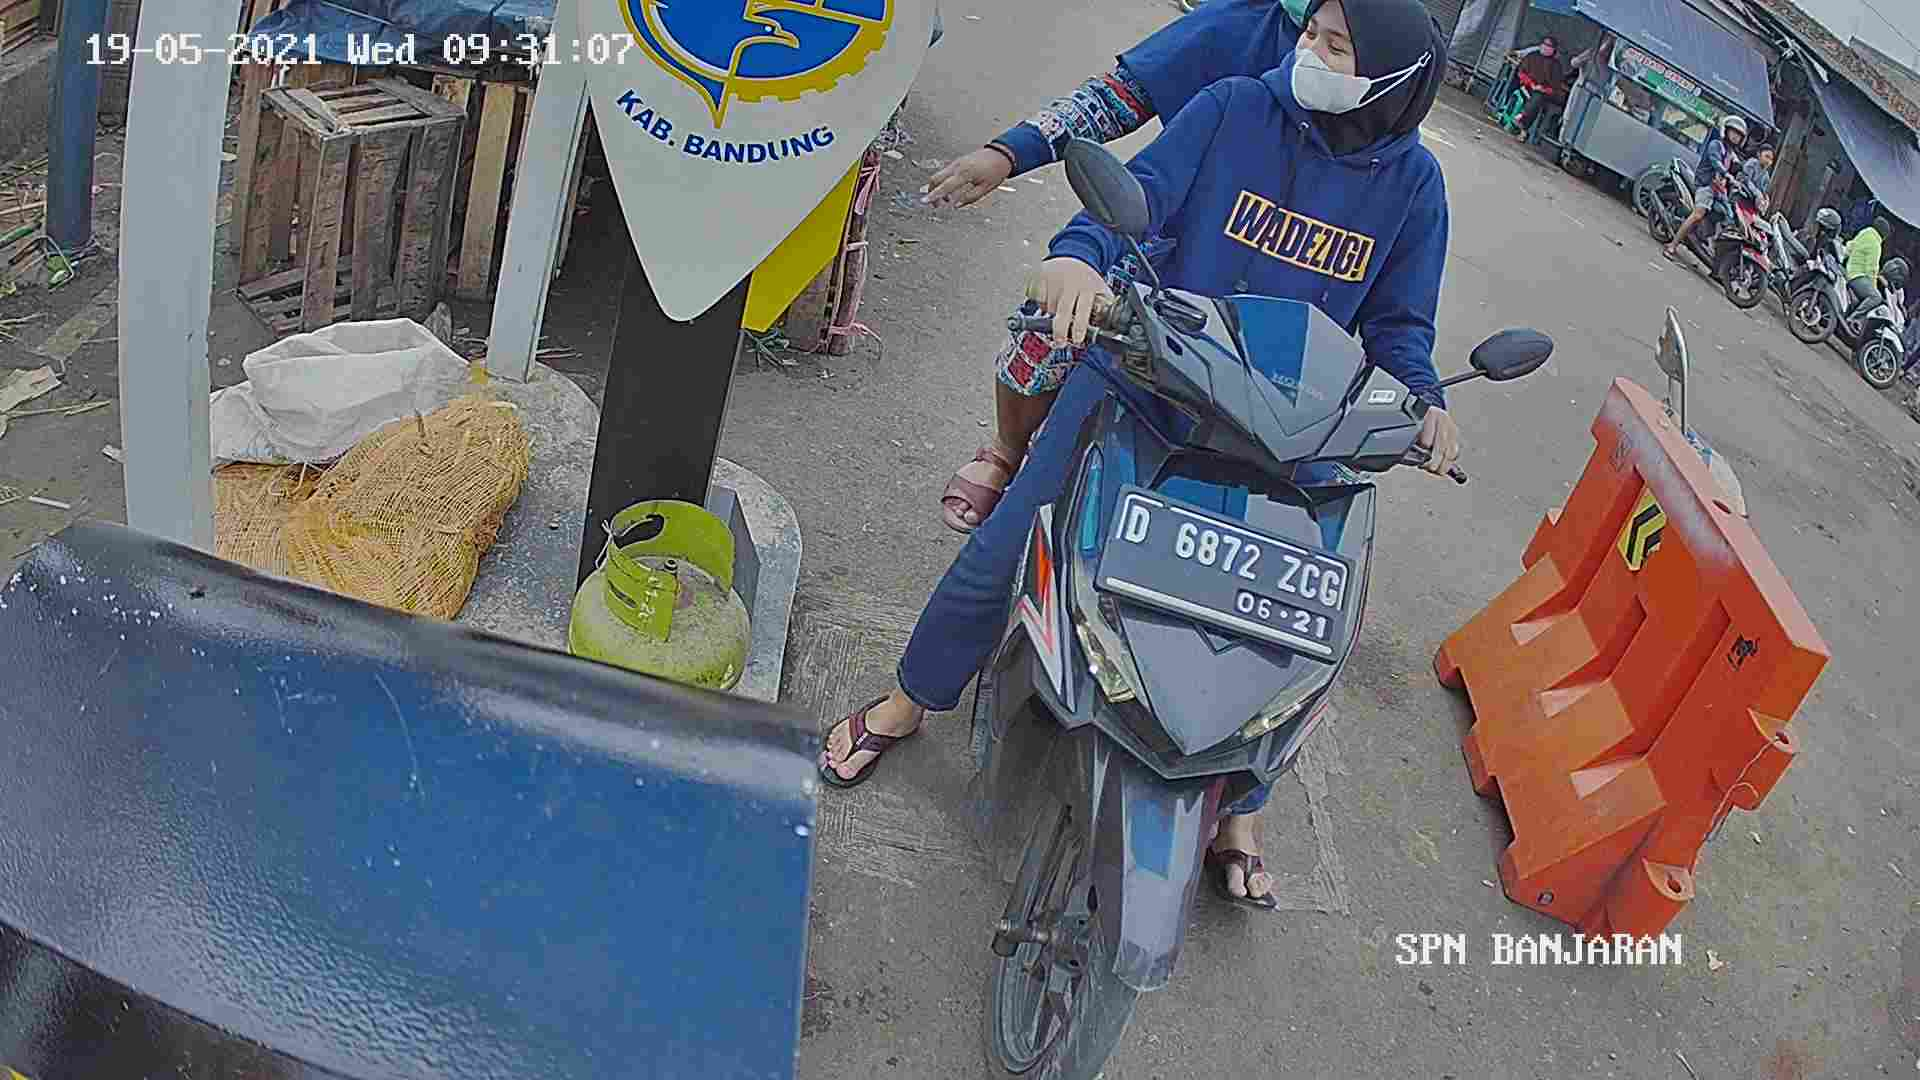motor: (914, 219, 1403, 1080)
